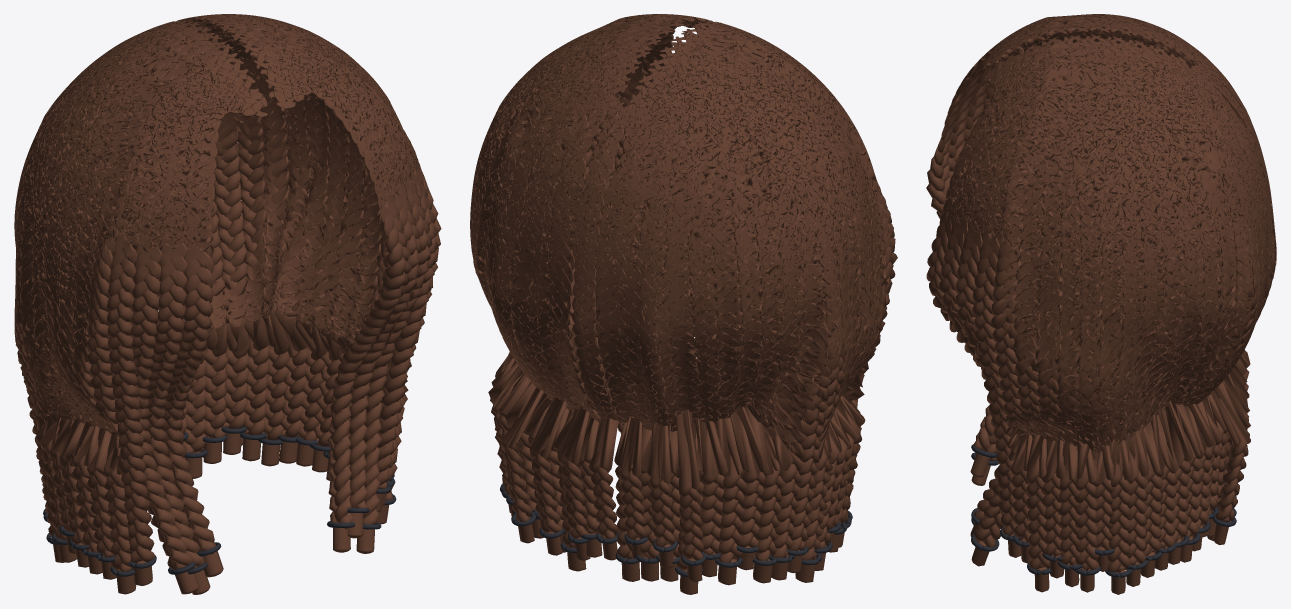
Rendered from Feminine-box-braids-pashmina-hair.glb.
3 views of the same model, side by side, from view 1: azimuth 30°, elevation 25°; view 2: azimuth 150°, elevation 25°; view 3: azimuth 270°, elevation 25° (orthographic). The views are drawn at different scales.
Visible parts, largest first — view 1: 226 hair / Hair / chestnut226.001, 226 hair / Hair / ties226.001; view 2: 226 hair / Hair / chestnut226.001, 226 hair / Hair / ties226.001; view 3: 226 hair / Hair / chestnut226.001, 226 hair / Hair / ties226.001.
Boxes of the visible parts, x1,y1,x2,y2 form: 226 hair / Hair / chestnut226.001: [14, 14, 441, 594]; 226 hair / Hair / ties226.001: [43, 426, 396, 576]; 226 hair / Hair / chestnut226.001: [470, 14, 897, 594]; 226 hair / Hair / ties226.001: [500, 484, 852, 576]; 226 hair / Hair / chestnut226.001: [926, 14, 1276, 594]; 226 hair / Hair / ties226.001: [971, 444, 1236, 577].
Size of the model in its own units: 0.9648 by 1.28 by 0.8208.
